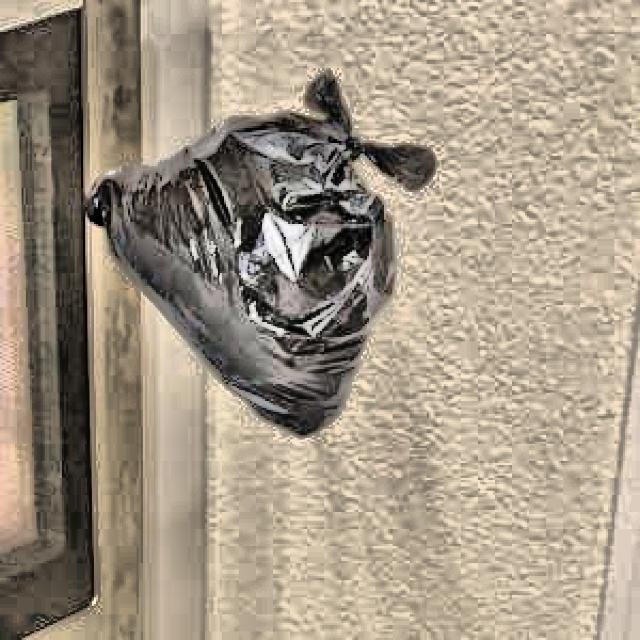Trashbag: (79, 64, 444, 436)
